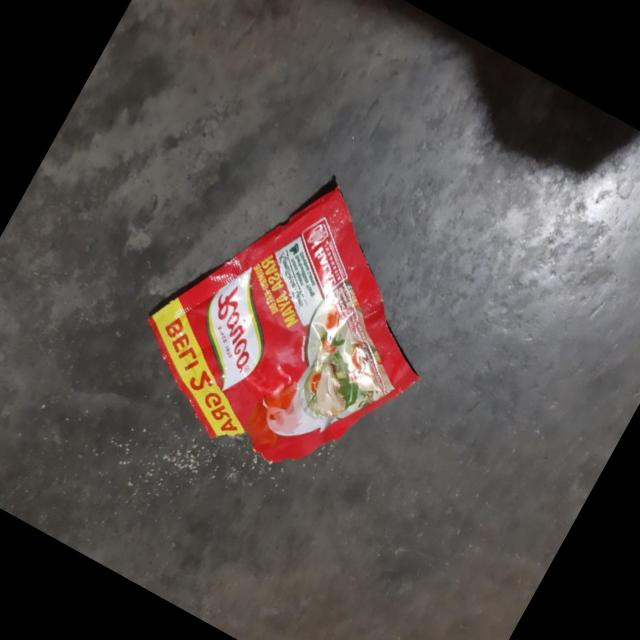KemasanPlastik: (109, 136, 481, 514)
